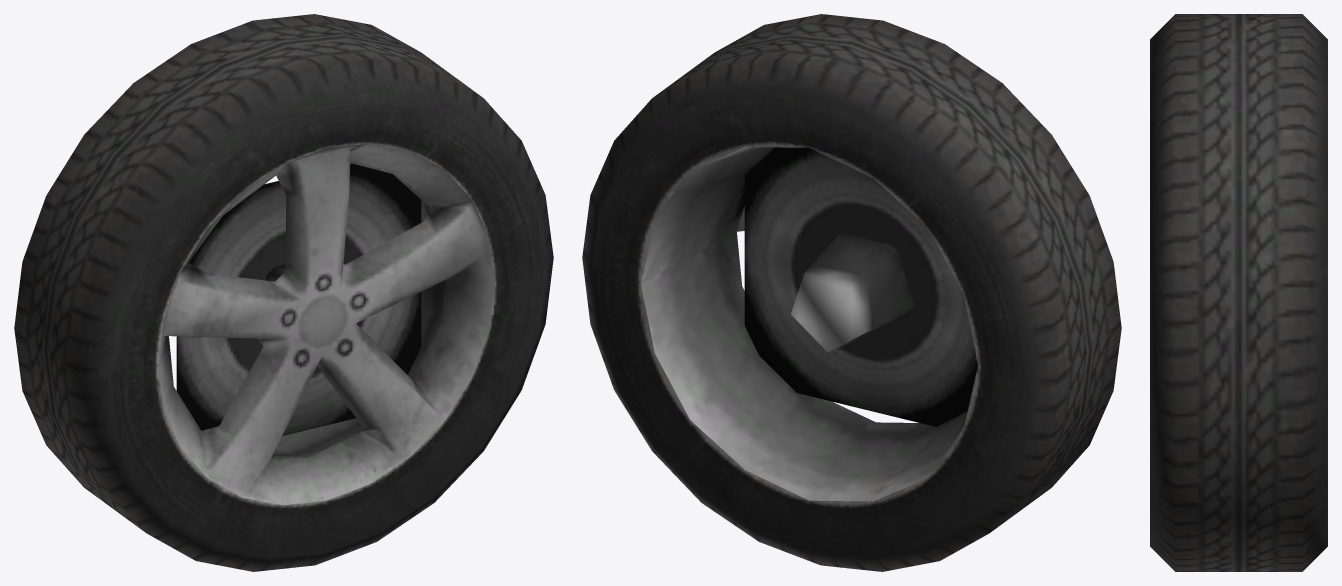
The model's file is V_A_2DrCoupe_Wheels_11_SkeletalMesh3_SkeletalMesh_24.psk.glb.
3 renders of one model, left to right at view 1: azimuth 30°, elevation 25°; view 2: azimuth 150°, elevation 25°; view 3: azimuth 270°, elevation 25°, orthographic.
Bounding box in the file's own units: 68.85 × 68.85 × 21.84.
1 material, 1 textured.
